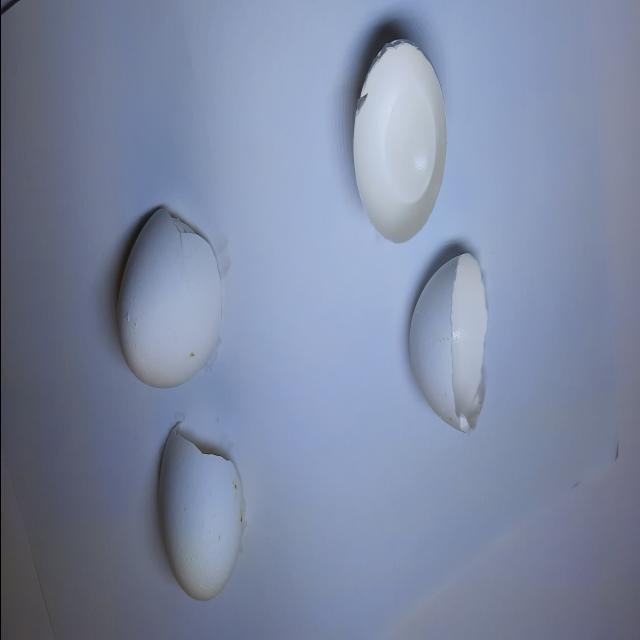egg shell: (108, 199, 230, 401), (347, 25, 452, 253), (146, 414, 248, 614), (401, 237, 490, 452)
